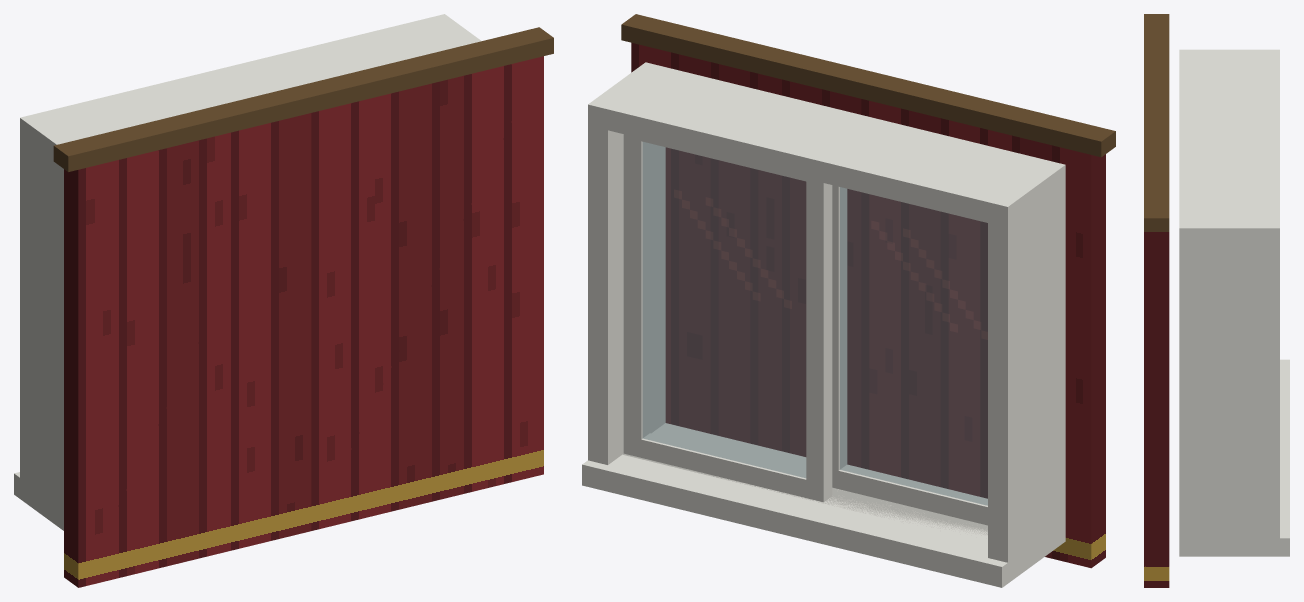
The model's file is t_curtains.glb.
3 views of the same model, side by side, from view 1: azimuth 30°, elevation 25°; view 2: azimuth 150°, elevation 25°; view 3: azimuth 270°, elevation 25° (orthographic). The views are drawn at different scales.
Parts seen in each view (by area): view 1: block_curtain-1, block_curtain1, block_lintel, block_stile-1, block_rod, block_sill; view 2: block_curtain-1, block_fixed-glass, block_curtain1, block_slider-glass, block_lintel, block_stile-1, block_sill, block_stile1, block_rod, block_fixed-l, block_fixed-r, block_fixed-bottom (+4 smaller); view 3: block_stile1, block_lintel, block_curtain1, block_rod, block_sill, block_stile-1.
Boxes of the visible parts, box(x1,y1,x2,y2) form: block_curtain-1: box(64, 113, 311, 587); block_curtain1: box(311, 56, 543, 530); block_lintel: box(20, 14, 481, 170); block_stile-1: box(20, 114, 73, 525); block_rod: box(53, 27, 553, 171); block_sill: box(14, 472, 63, 530); block_curtain-1: box(861, 99, 1105, 568); block_fixed-glass: box(642, 142, 806, 477); block_curtain1: box(631, 42, 861, 467); block_slider-glass: box(840, 187, 987, 505); block_lintel: box(588, 62, 1065, 227); block_stile-1: box(988, 162, 1065, 579); block_sill: box(582, 423, 1065, 587); block_stile1: box(588, 63, 665, 464); block_rod: box(621, 14, 1115, 157); block_fixed-l: box(806, 179, 832, 501); block_fixed-r: box(623, 137, 649, 455); block_fixed-bottom: box(623, 433, 832, 502); block_stile1: box(1179, 219, 1279, 556); block_lintel: box(1179, 49, 1279, 246); block_curtain1: box(1144, 232, 1169, 587); block_rod: box(1144, 14, 1169, 231); block_sill: box(1179, 359, 1289, 556); block_stile-1: box(1179, 49, 1279, 57).
Size of the model in its own units: 0.96 by 0.82 by 0.29.
2 materials, 2 textured.
